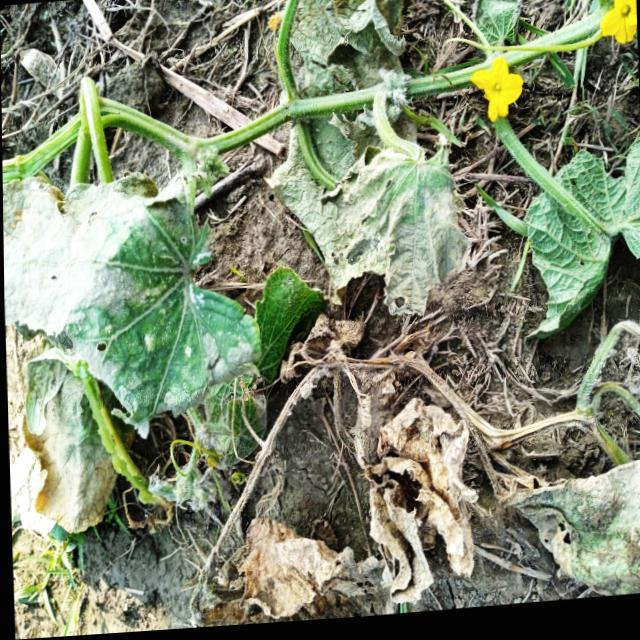Bacterial-Wilt: (362, 399, 478, 611), (186, 514, 392, 631)
